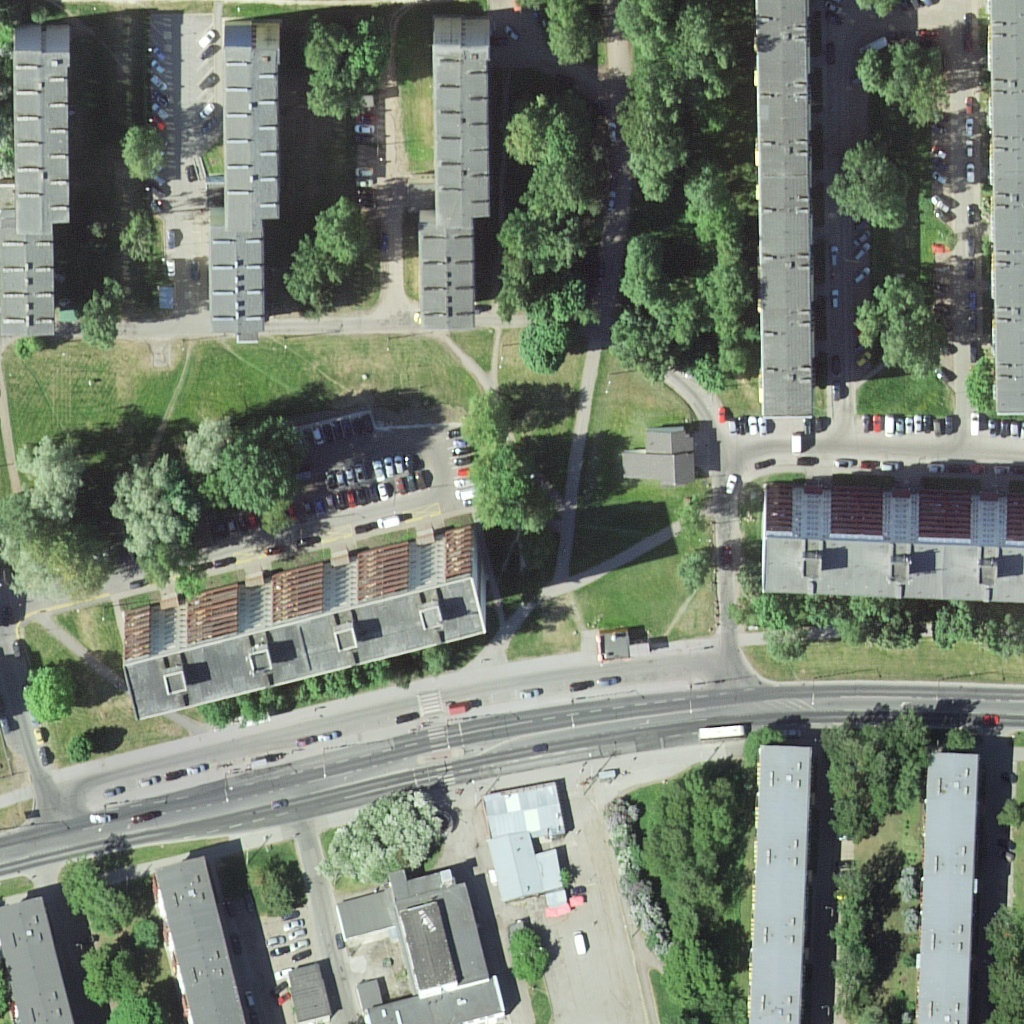building: (118, 524, 489, 719), (763, 475, 1024, 609), (749, 1, 818, 422), (390, 857, 503, 1024), (150, 853, 247, 1024), (745, 739, 802, 1024), (921, 751, 975, 1024), (428, 11, 496, 221), (992, 1, 1024, 419), (221, 17, 282, 223), (16, 25, 74, 224), (483, 778, 576, 896), (2, 899, 80, 1024), (1, 222, 61, 344), (418, 218, 474, 332), (207, 223, 262, 337)
